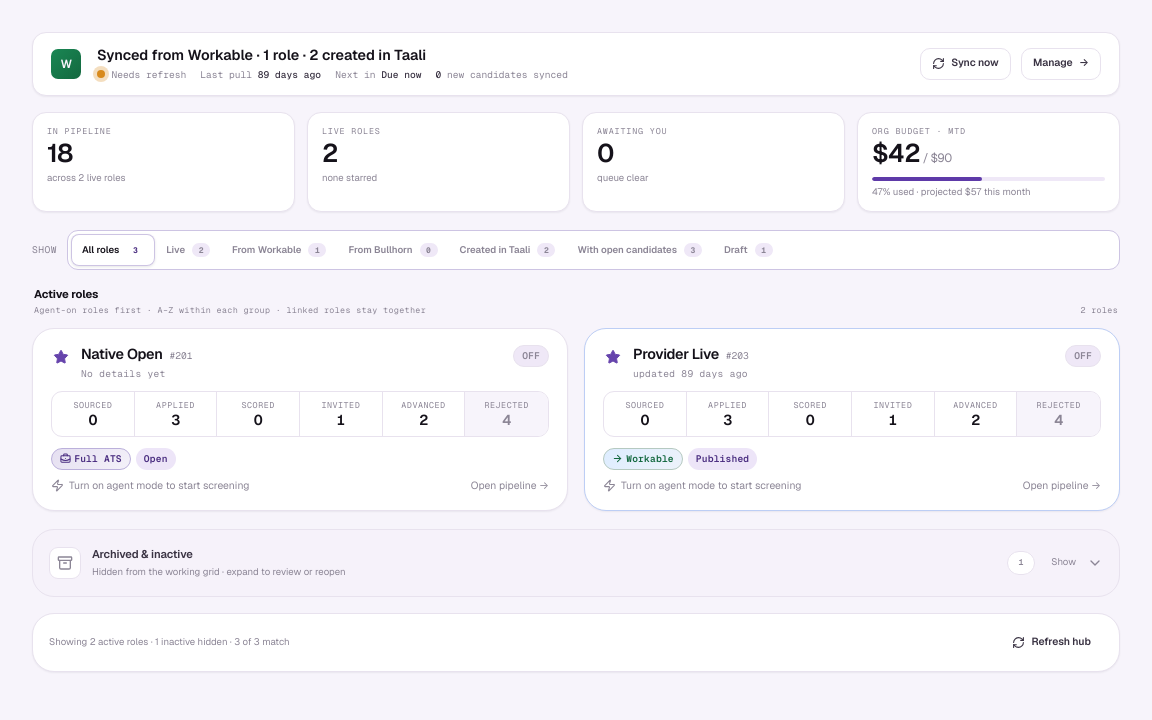
Scenario: JobsPage Workable sync states › uses native job_status for Live and Draft filters
(page scrolled)
Check: the text "Native Draft" is not shown
Click the button with aria-label "Show archived and inactive roles (1)". click: (65, 563)
box: [33,530,1119,596]
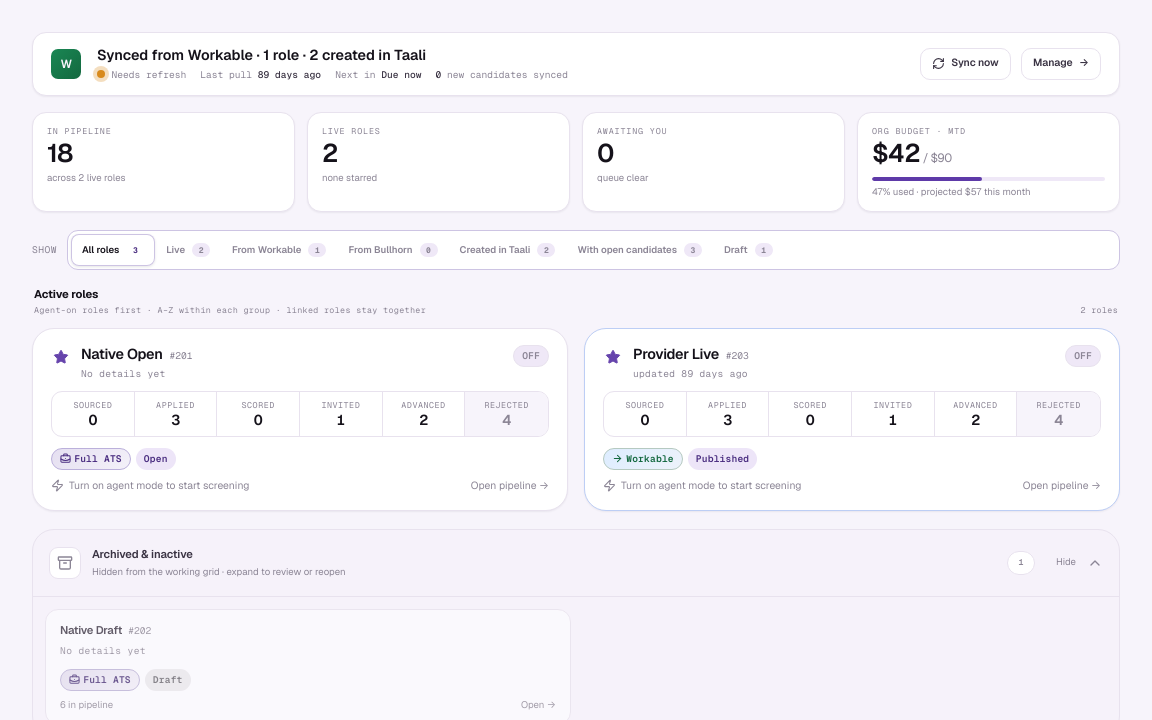
Check: the button "Filter" is not shown
Check: the element named "Filter jobs" is shown, box [32,230,1120,270]
Click the button "Live 2". click: (188, 250)
box: [155,234,221,266]
(page scrolled)
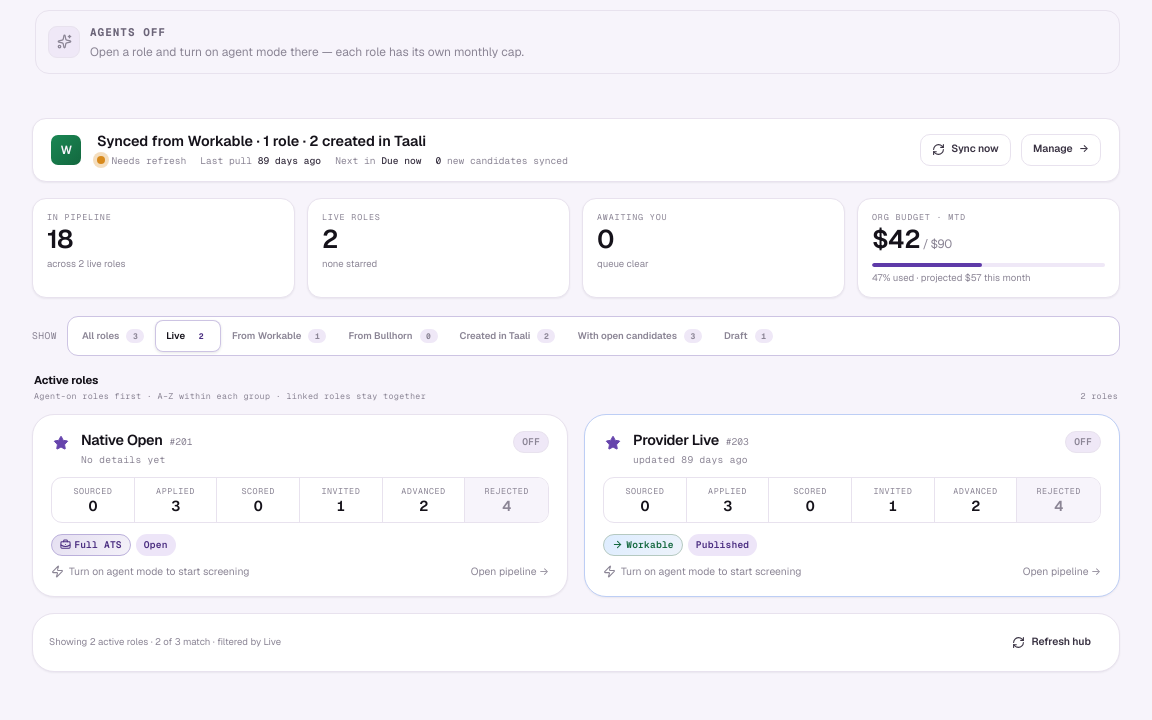
Check: the heading "Native Open" is shown, box [81,431,162,450]
Check: the button "Native Draft" is gone
Click the button "Draft 1". click: (748, 336)
box: [713,320,784,352]
(page scrolled)
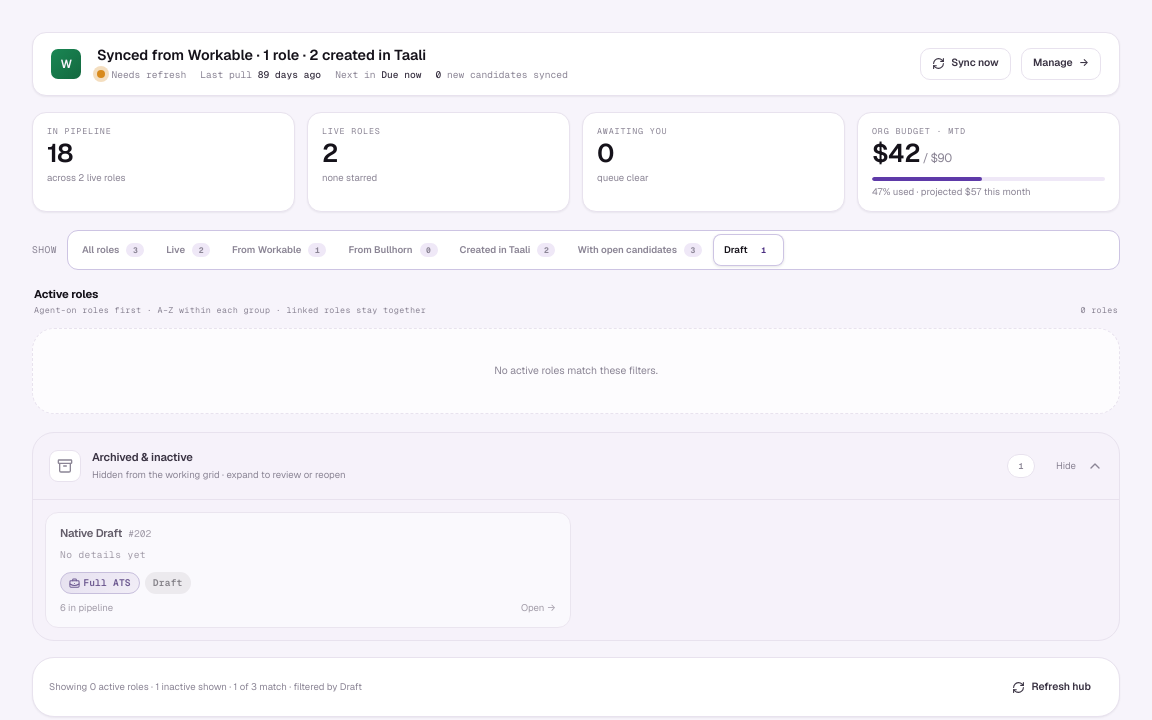
Check: the heading "Native Draft" is shown, box [60,525,122,542]
Check: the button "Native Open" is gone
Check: the button "Provider Live" is gone
